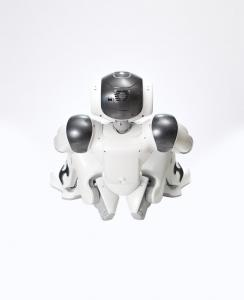nao: (47, 67, 201, 233)
